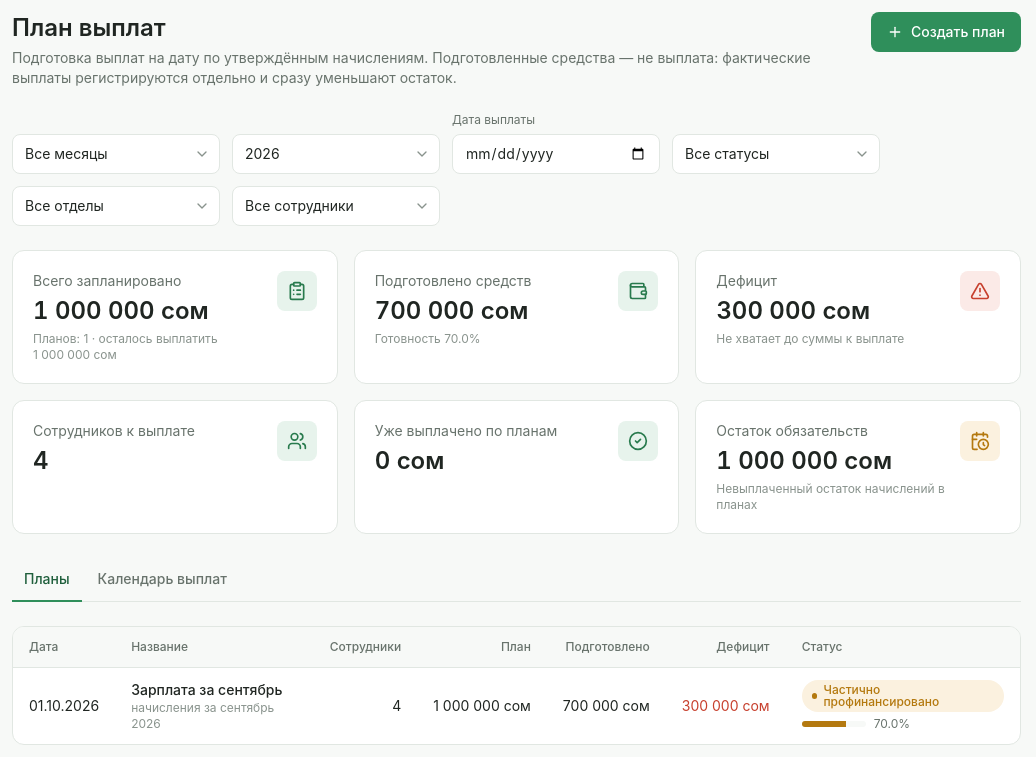
it: PayoutPlanPage › shows the calendar with recommended dates
Click the tab "Календарь выплат". click: {"x": 162, "y": 580}
box: [86,558,239,602]
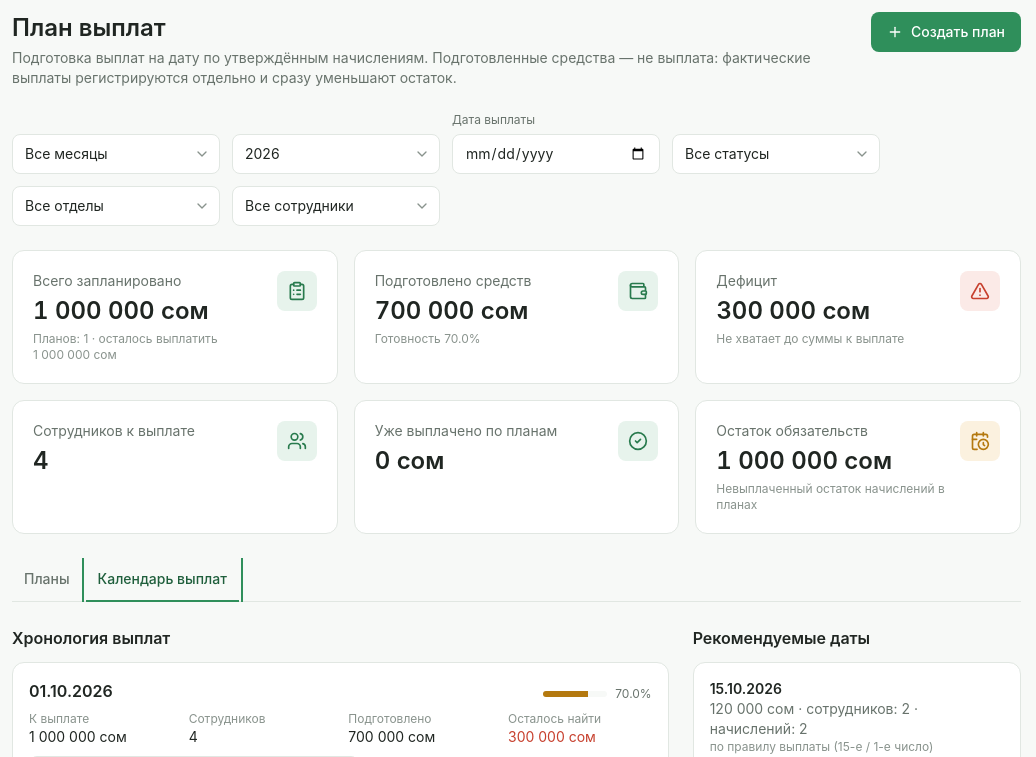
Result: the heading "Хронология выплат" is shown at [12,628,170,648]
Result: the text "15.10.2026" is shown at [710,680,782,697]
Result: the text "по правилу выплаты (15-е / 1-е число)" is shown at [710,739,934,754]
